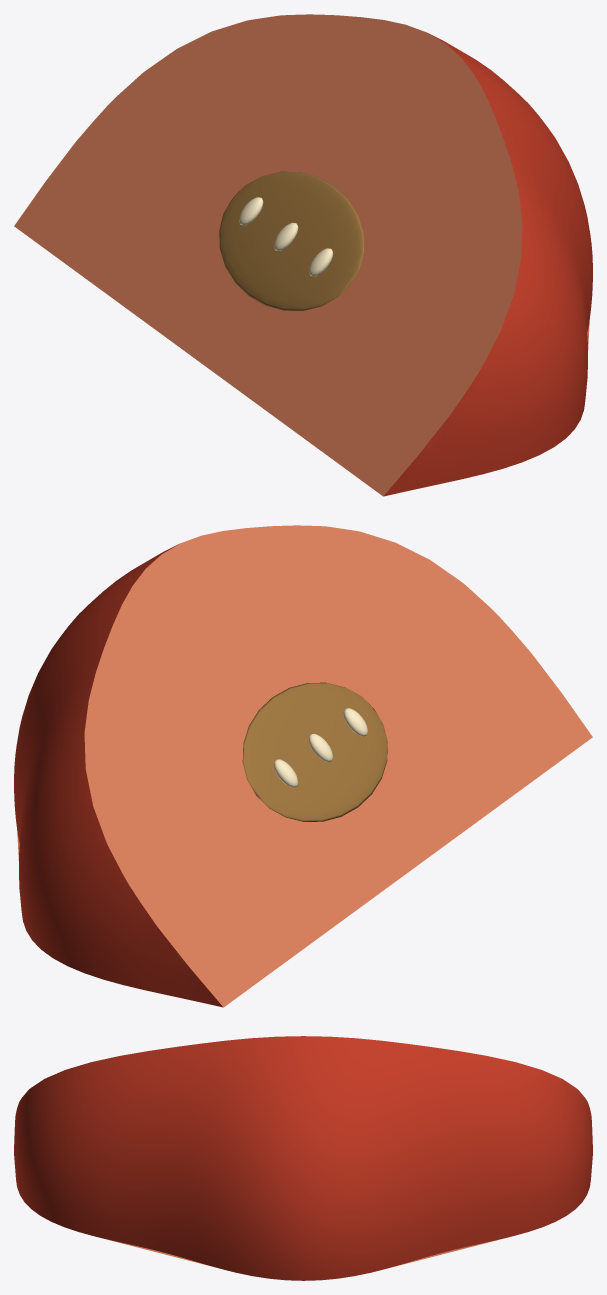
The model's file is better_boy_chunk.glb.
3 views of the same model, one above another, from view 1: azimuth 30°, elevation 25°; view 2: azimuth 150°, elevation 25°; view 3: azimuth 270°, elevation 25° (orthographic). The views are drawn at different scales.
Parts seen in each view (by area): view 1: Prepared Better Boy half, Fresh Better Boy diagonal gel, Fresh Better Boy diagonal seed; view 2: Prepared Better Boy half, Fresh Better Boy diagonal gel, Fresh Better Boy diagonal seed; view 3: Prepared Better Boy half.
Part boxes in pixels (x1,y1,x2,y2): Prepared Better Boy half: [14, 14, 592, 496]; Fresh Better Boy diagonal gel: [219, 171, 364, 310]; Fresh Better Boy diagonal seed: [239, 197, 333, 276]; Prepared Better Boy half: [14, 525, 592, 1007]; Fresh Better Boy diagonal gel: [242, 682, 387, 821]; Fresh Better Boy diagonal seed: [273, 708, 367, 787]; Prepared Better Boy half: [14, 1036, 592, 1280].
Size of the model in its own units: 0.7994 by 0.5299 by 1.4.
